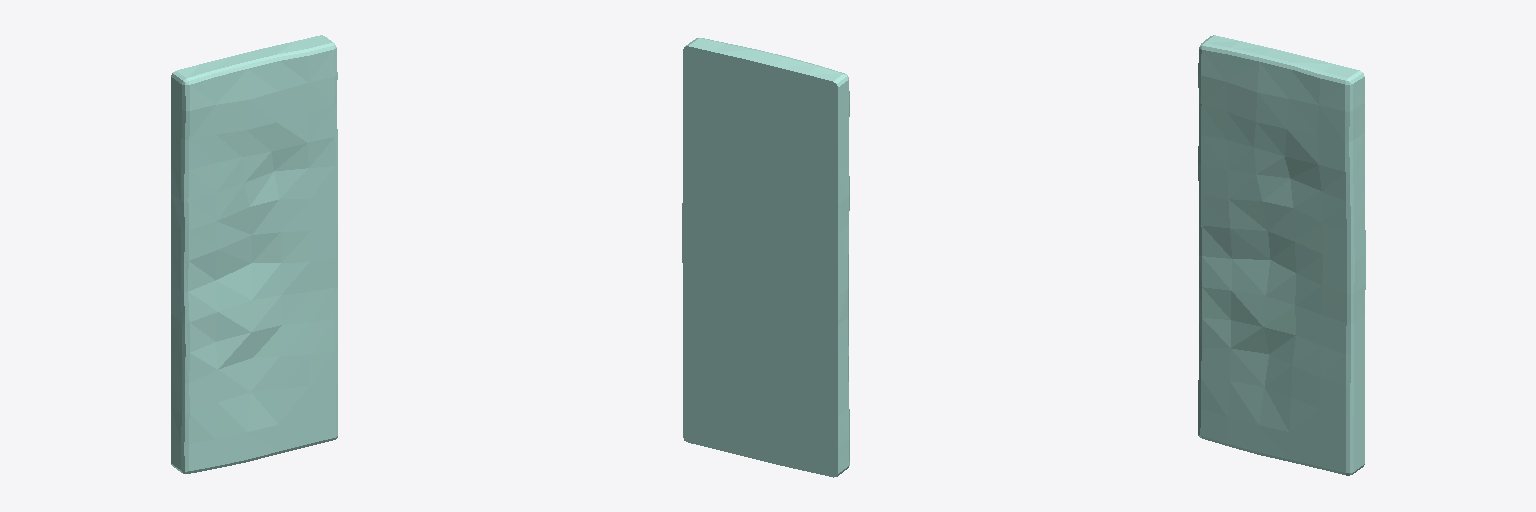
3 views of the same model, side by side, from view 1: azimuth 30°, elevation 25°; view 2: azimuth 150°, elevation 25°; view 3: azimuth 330°, elevation 25° (orthographic).
Visible parts, largest first — view 1: Bed.001_Material.002; view 2: Bed.001_Material.002; view 3: Bed.001_Material.002.
Part boxes in pixels (x1,y1,x2,y2): Bed.001_Material.002: (171,35,337,473); Bed.001_Material.002: (682,38,849,477); Bed.001_Material.002: (1198,35,1365,475).
Bounding box in the file's own units: 0.6651 × 1.62 × 0.1103.
1 materials, 1 textured.